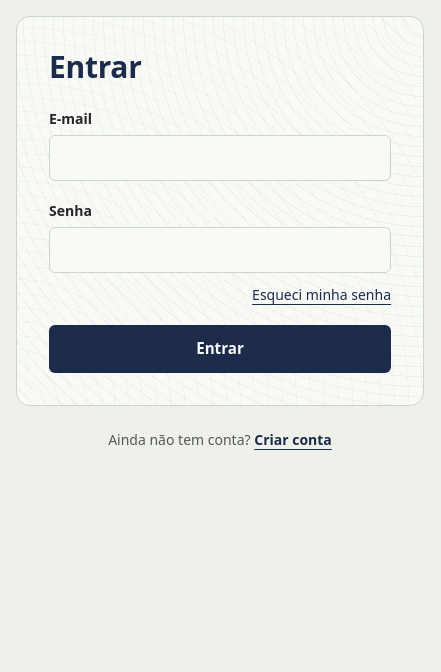
Test case: SignInPage: e-mail não confirmado › oferece reenviar a confirmação para o e-mail digitado
This screenshot has width=441, height=672.
Step 1. Type "rita@exemplo.com" into the field labelled "E-mail" → x=220, y=158, box [49,135,391,181]
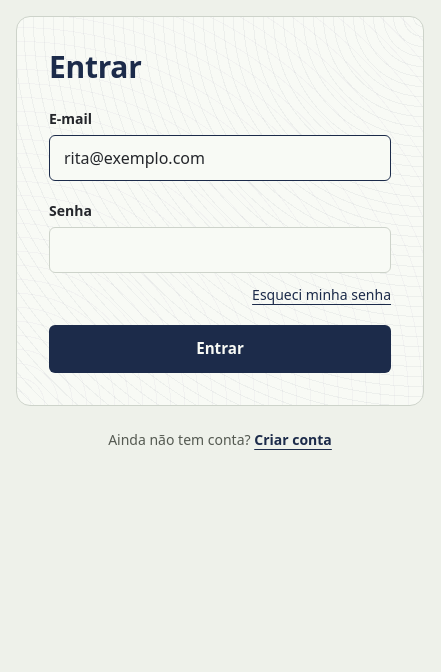
Step 2. Type "senha1234" into the password field labelled "Senha" → x=220, y=250, box [49,227,391,273]
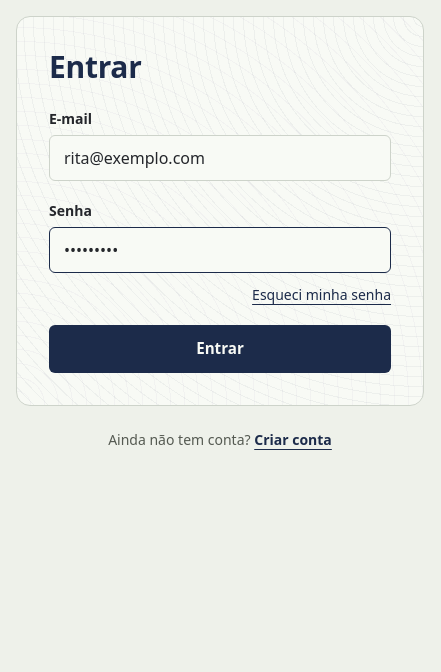
Step 3. Click the button "Entrar" → x=220, y=349, box [49,325,391,373]
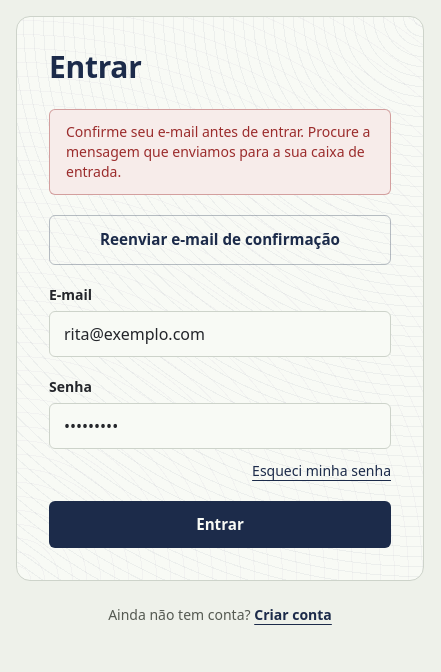
Step 4. Click the button "Reenviar e-mail de confirmação" → x=220, y=240, box [49,215,391,265]
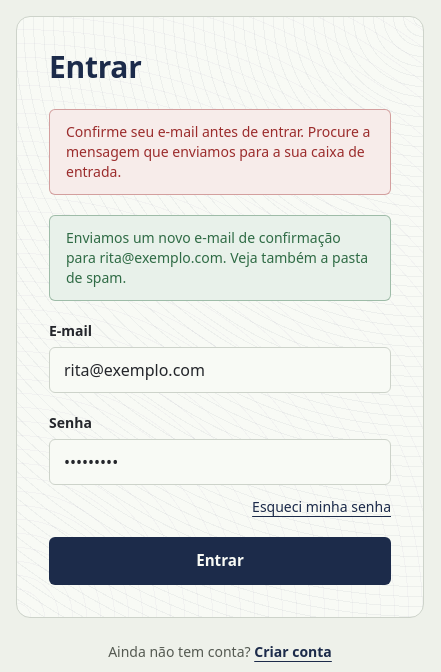
Now the text "Enviamos um novo e-mail de confirmação para rita@exemplo.com" is shown, box [66,228,374,288]
